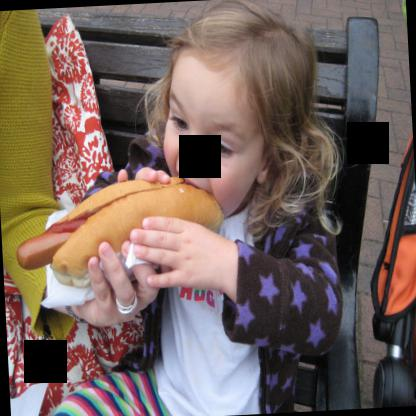suitcase: (369, 130, 416, 408)
